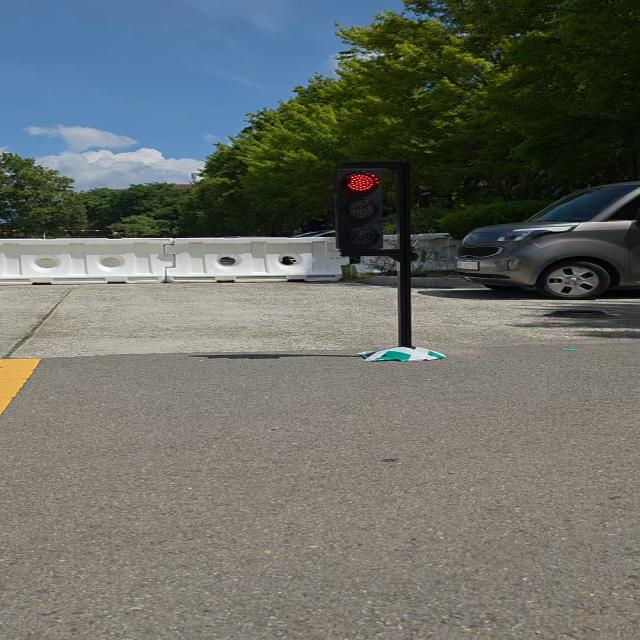red: (325, 166, 394, 256)
